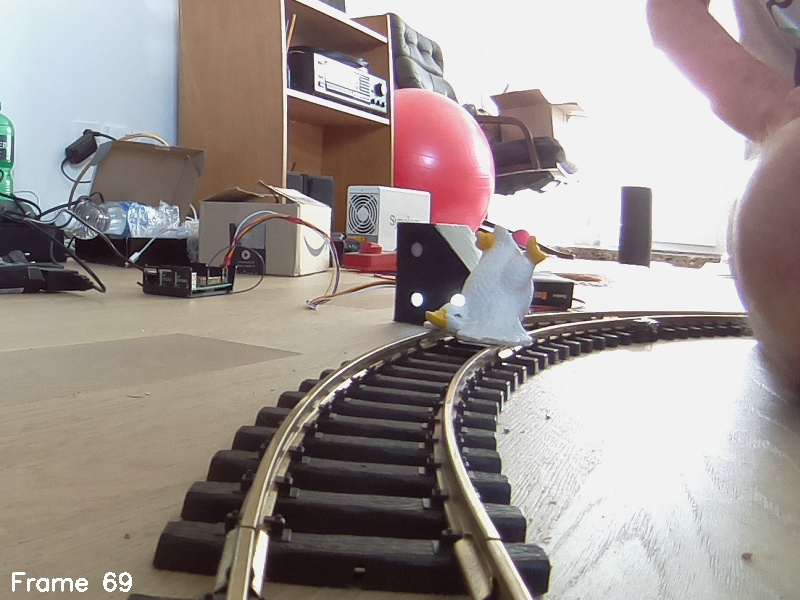Ente: (418, 222, 538, 354)
Halt: (397, 222, 476, 331)
